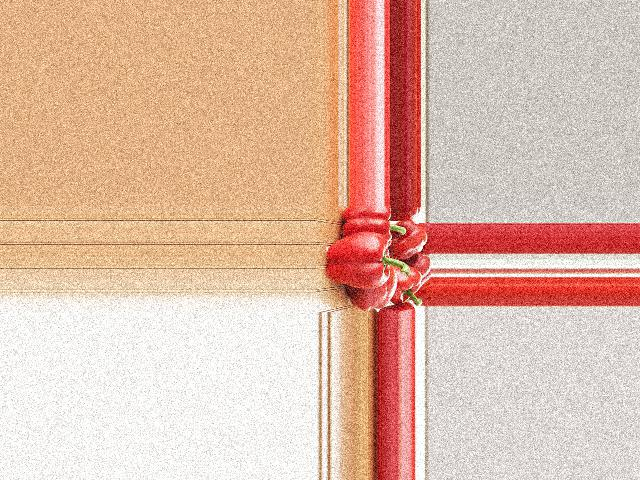bell_pepper: (388, 266, 423, 308)
